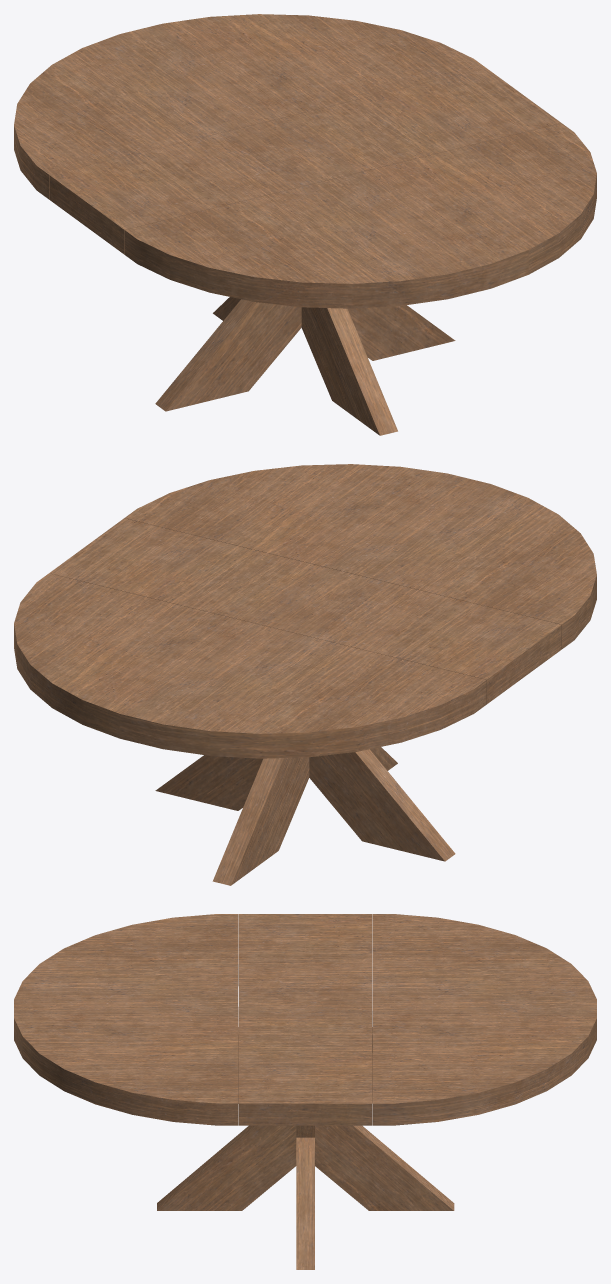
The model's file is dining_table.glb.
3 renders of one model, top to bottom at view 1: azimuth 30°, elevation 25°; view 2: azimuth 150°, elevation 25°; view 3: azimuth 270°, elevation 25°, orthographic. The views are drawn at different scales.
Visible parts, largest first — view 1: table_all.001_table_bake_0; view 2: table_all.001_table_bake_0; view 3: table_all.001_table_bake_0.
Boxes of the visible parts, left/top/right/bottom form: table_all.001_table_bake_0: left=14, top=14, right=596, bottom=435; table_all.001_table_bake_0: left=14, top=464, right=596, bottom=885; table_all.001_table_bake_0: left=14, top=914, right=596, bottom=1269.
Size of the model in its own units: 1.52 by 0.7435 by 1.98.
1 material, 1 textured.
